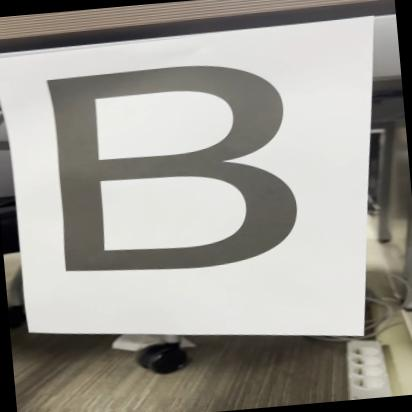seat: (37, 39, 322, 290)
